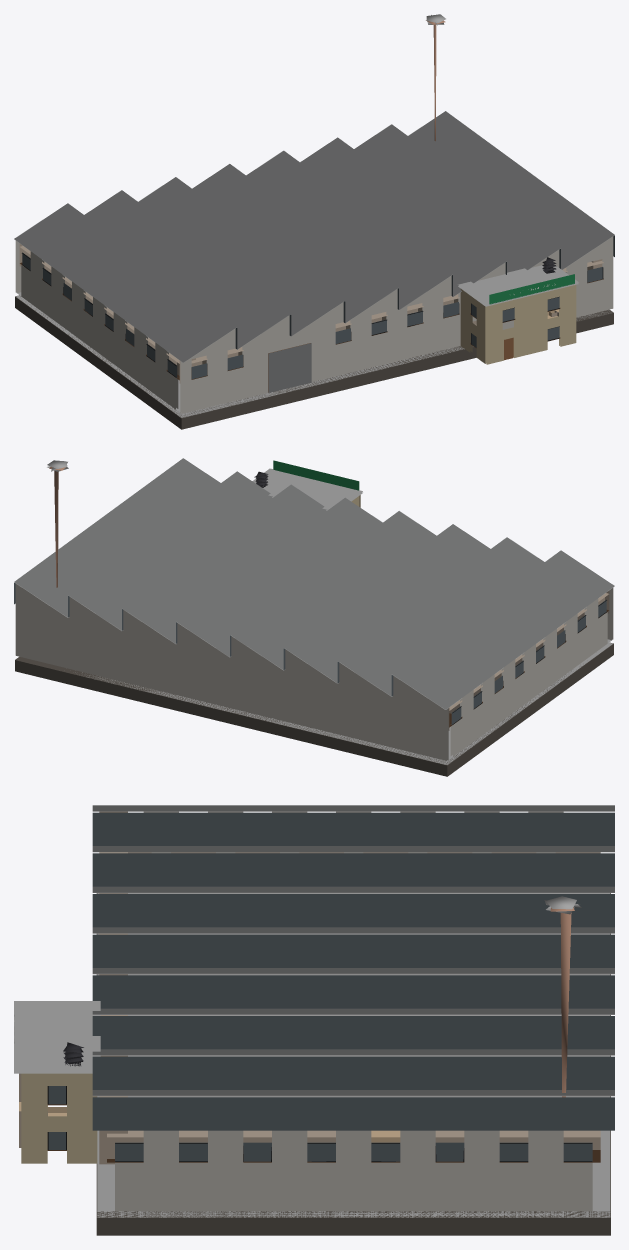
Rendered from mill_shed_48x32_1_far.glb.
3 renders of one model, top to bottom at view 1: azimuth 30°, elevation 25°; view 2: azimuth 150°, elevation 25°; view 3: azimuth 270°, elevation 25°, orthographic. The views are drawn at different scales.
Parts seen in each view (by area): view 1: mill_shed_48x32_1; view 2: mill_shed_48x32_1; view 3: mill_shed_48x32_1.
Part boxes in pixels (left/top/right/bottom): mill_shed_48x32_1: left=14, top=14, right=614, bottom=429; mill_shed_48x32_1: left=14, top=458, right=614, bottom=776; mill_shed_48x32_1: left=14, top=805, right=614, bottom=1235.
Size of the model in its own units: 48.1 by 21.45 by 37.5.
